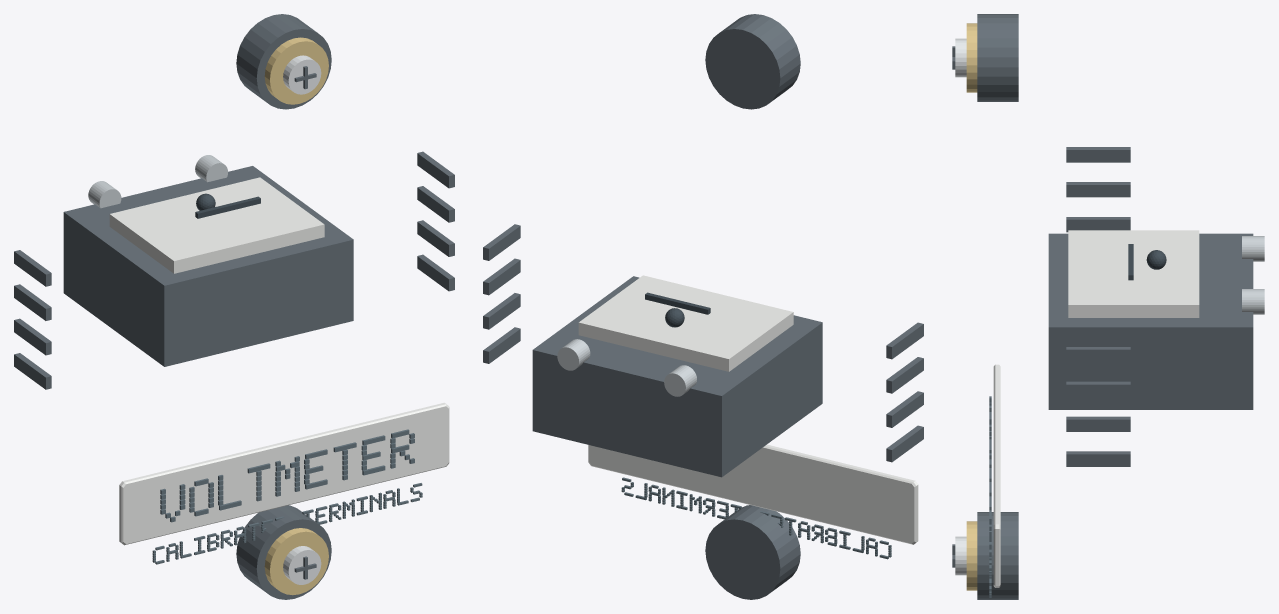
File: voltmeter.glb
3 renders of one model, left to right at view 1: azimuth 30°, elevation 25°; view 2: azimuth 150°, elevation 25°; view 3: azimuth 270°, elevation 25°, orthographic.
Visible parts, largest first — view 1: voltmeter-detailed; view 2: voltmeter-detailed; view 3: voltmeter-detailed.
Part boxes in pixels (x1=…): voltmeter-detailed: x1=14, y1=14, x2=454, y2=599; voltmeter-detailed: x1=483, y1=14, x2=923, y2=599; voltmeter-detailed: x1=952, y1=14, x2=1264, y2=599.
Size of the model in its own units: 1.71 by 2.27 by 1.11.
